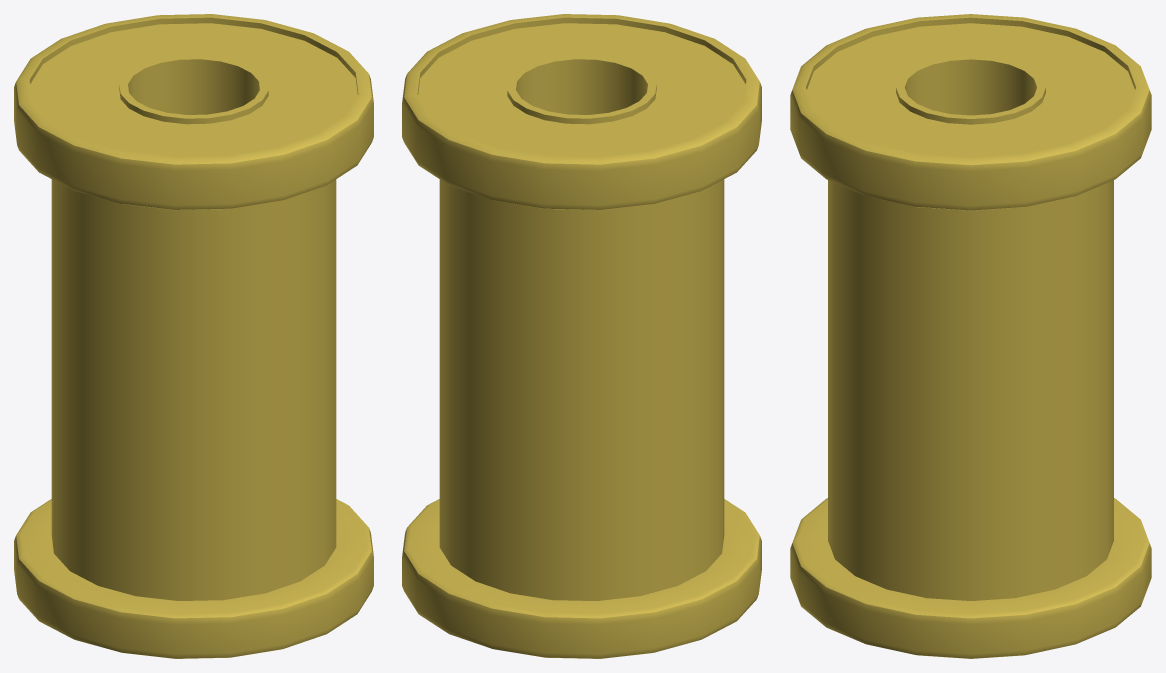
The model's file is BobbinModel.gltf.
3 views of the same model, side by side, from view 1: azimuth 30°, elevation 25°; view 2: azimuth 150°, elevation 25°; view 3: azimuth 270°, elevation 25° (orthographic).
Visible parts, largest first — view 1: ito; view 2: ito; view 3: ito.
Boxes of the visible parts, x1=… form: ito: x1=14, y1=14, x2=373, y2=658; ito: x1=402, y1=14, x2=761, y2=658; ito: x1=790, y1=14, x2=1151, y2=658.
Size of the model in its own units: 1.89 by 2.88 by 1.89.
